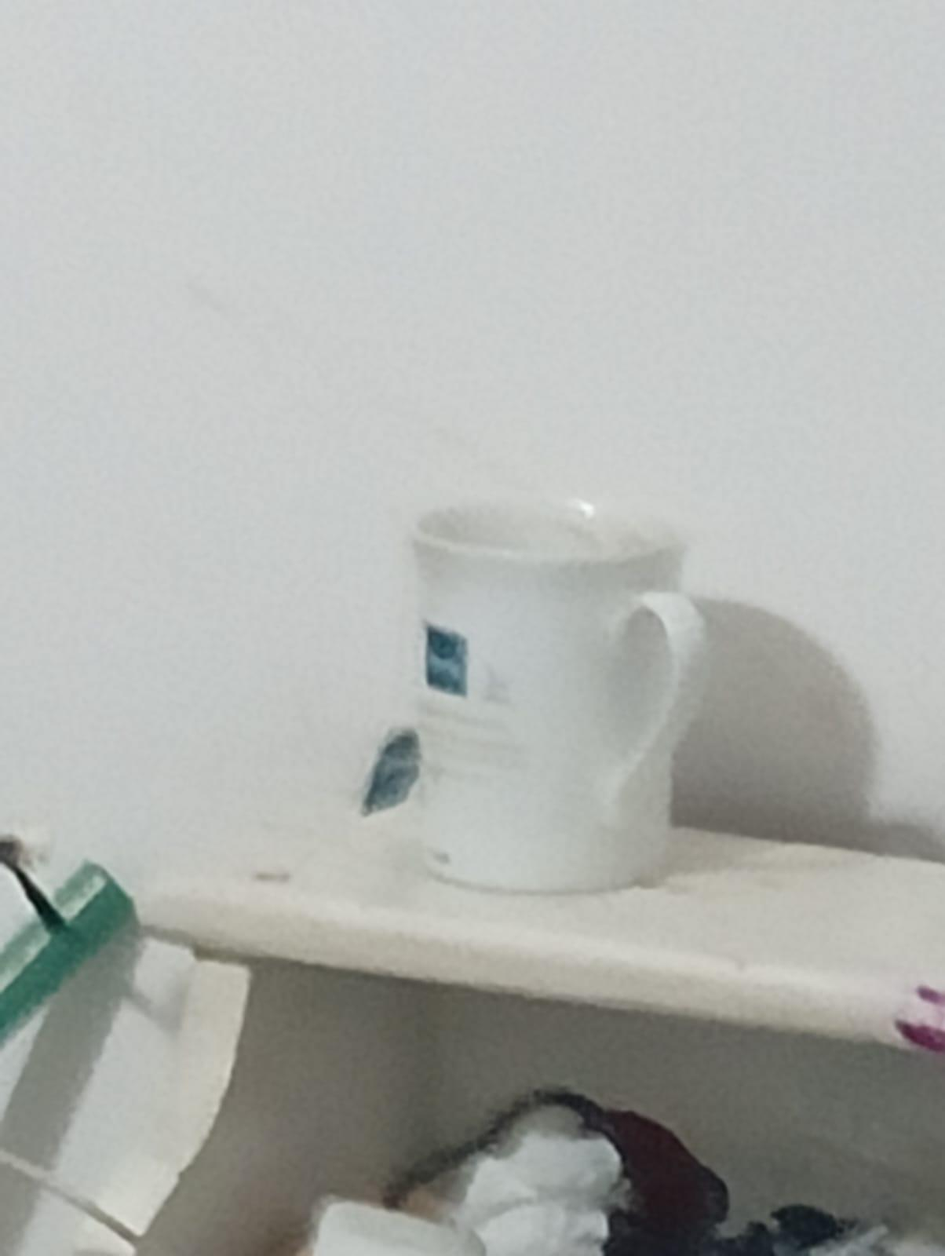cup: (413, 502, 705, 892)
